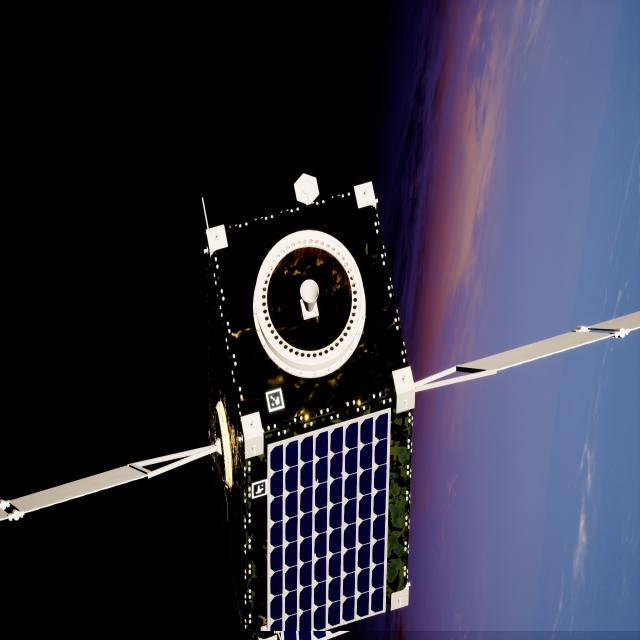medium_debris: (0, 175, 640, 640)
